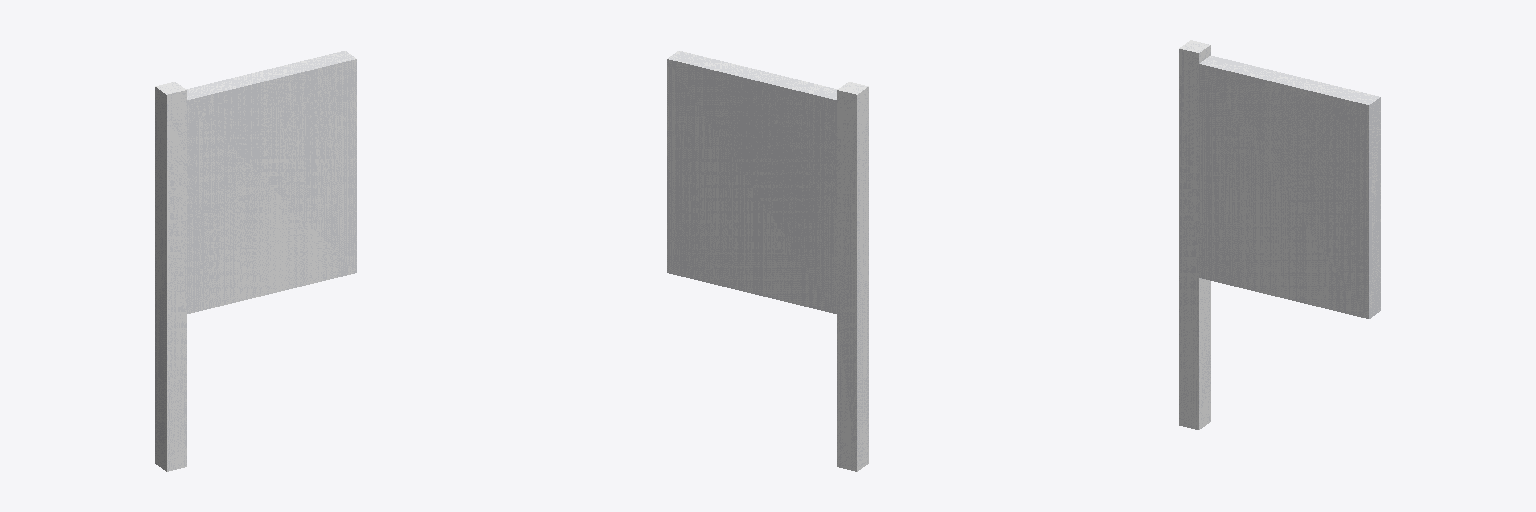
The model's file is flagCheckersSmall.obj.
The picture shows the model from 3 angles: view 1: azimuth 30°, elevation 25°; view 2: azimuth 150°, elevation 25°; view 3: azimuth 330°, elevation 25°; orthographic projection.
Visible parts, largest first — view 1: flagCheckersSmall; view 2: flagCheckersSmall; view 3: flagCheckersSmall.
Boxes of the visible parts, <box> form: flagCheckersSmall: <box>155,51,356,471</box>; flagCheckersSmall: <box>667,51,868,471</box>; flagCheckersSmall: <box>1179,40,1380,429</box>.
Size of the model in its own units: 1.9 by 3.6 by 0.2.